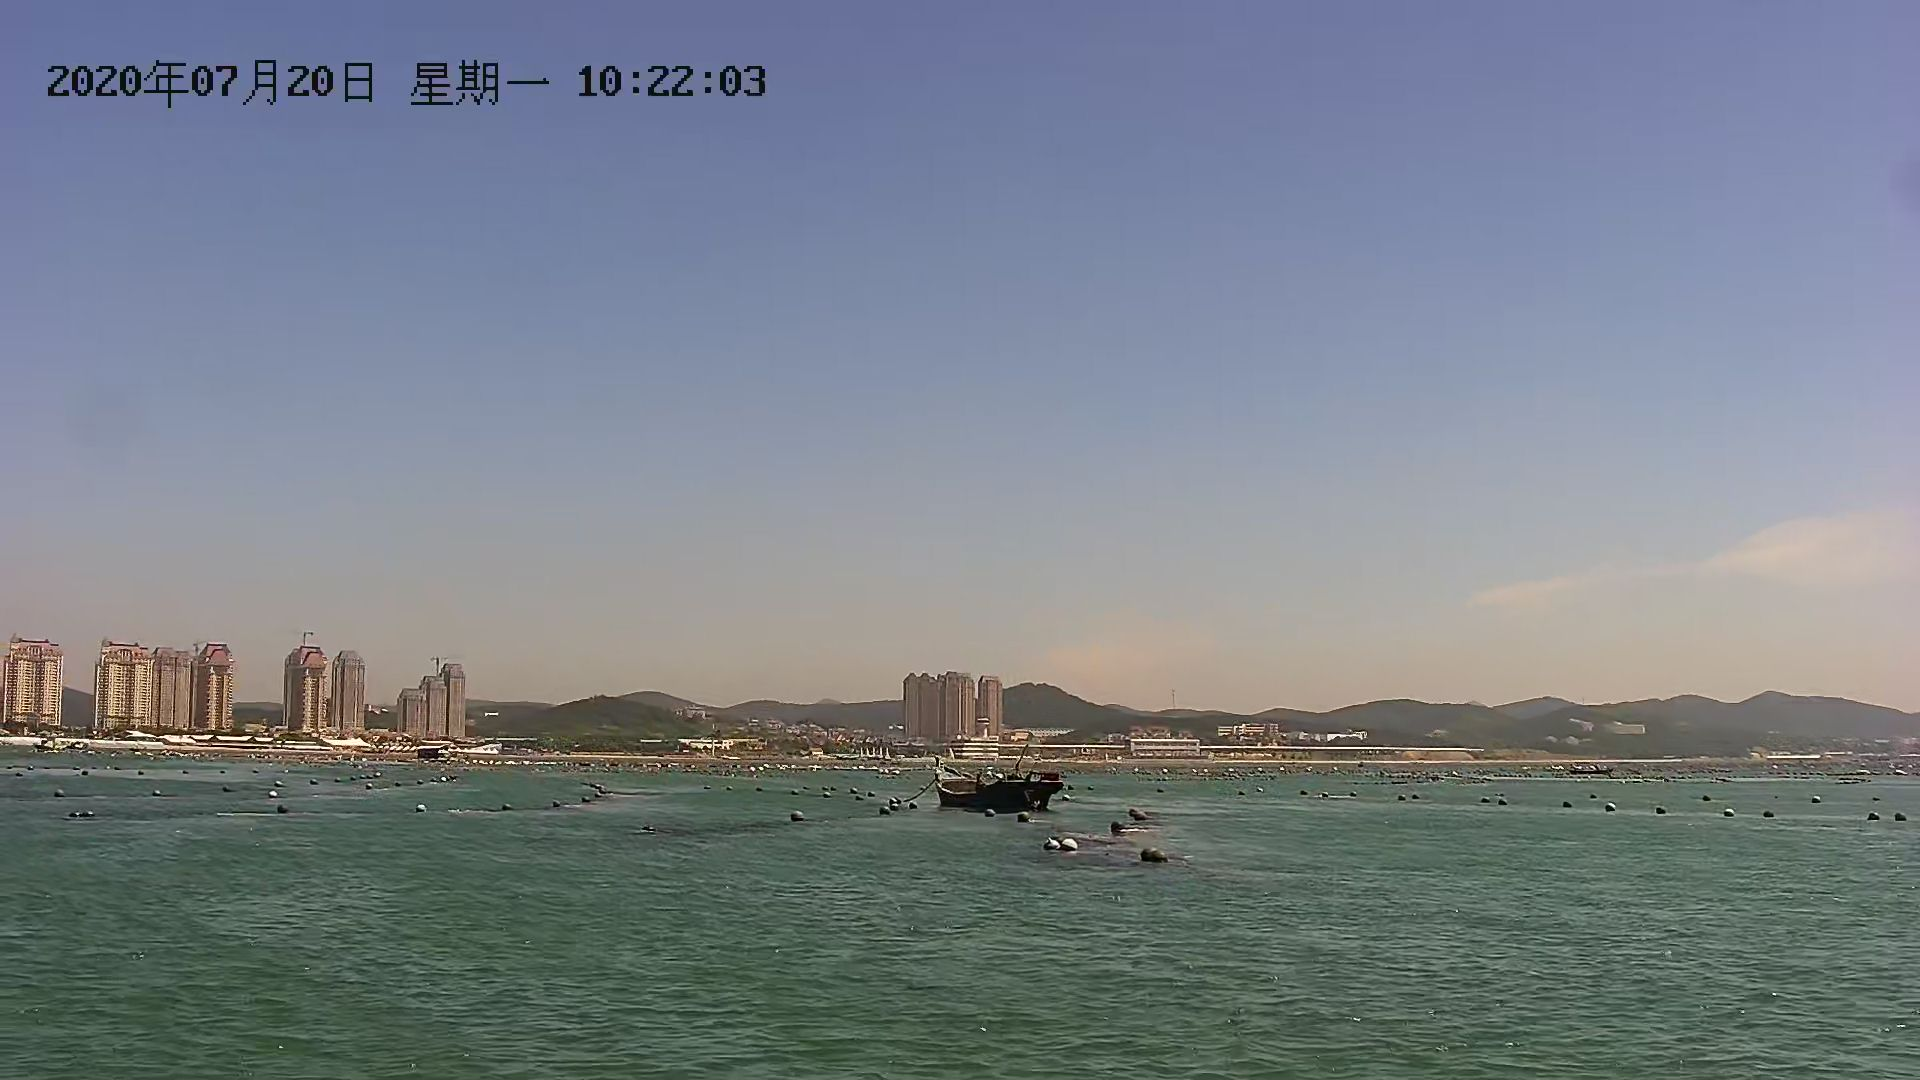boat: (924, 760, 1064, 818), (1137, 840, 1172, 872), (1106, 815, 1133, 843), (1062, 836, 1085, 860), (1038, 835, 1059, 855)
